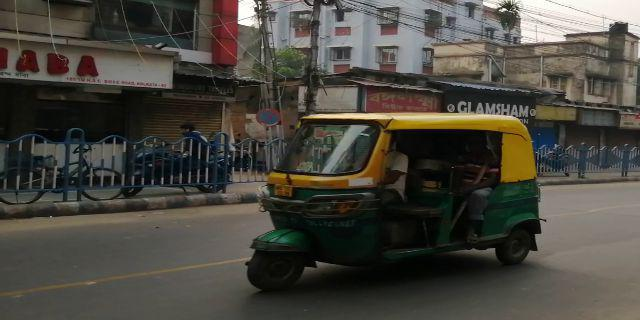Autorickshaw: (244, 116, 548, 285)
